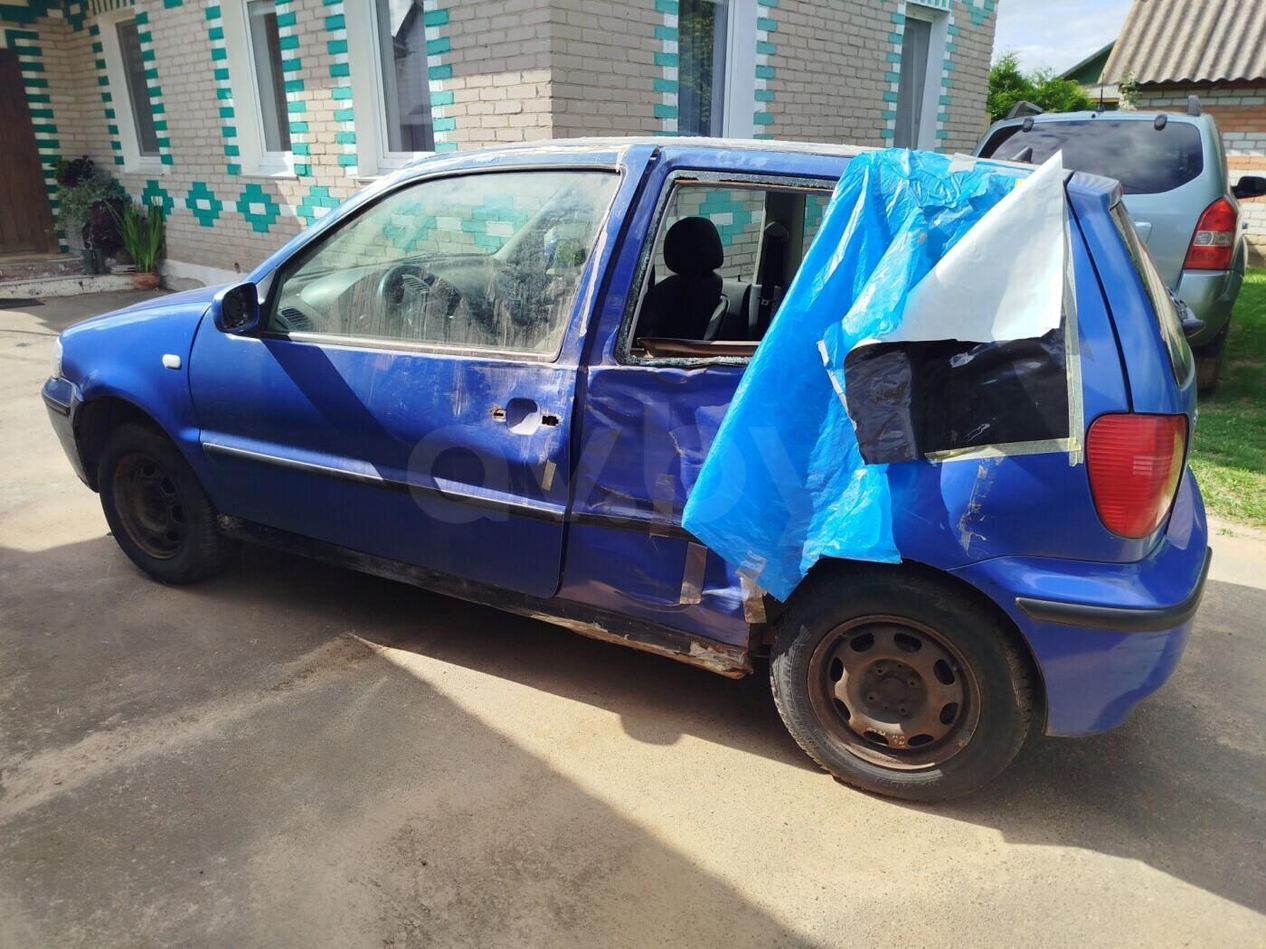Polo_2000-2002: (40, 114, 1216, 782)
